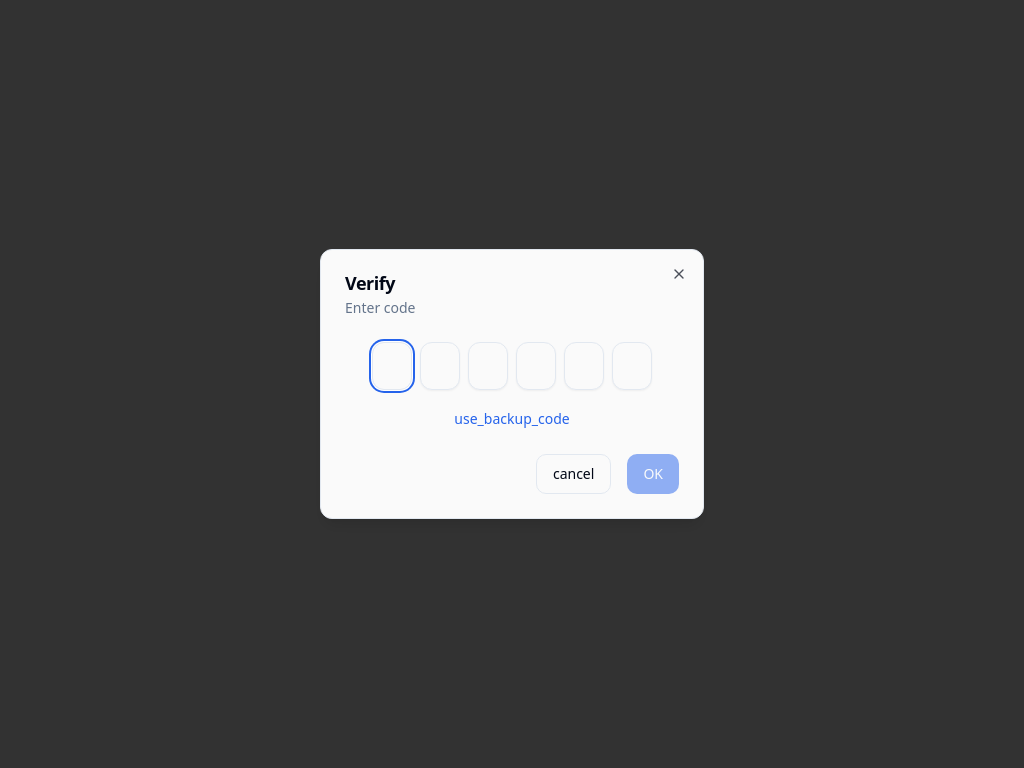
Test: OtpDialog › switches to backup mode when use_backup_code is clicked
Click the button "use_backup_code" at coordinates (512, 419), box [454,409,570,429]
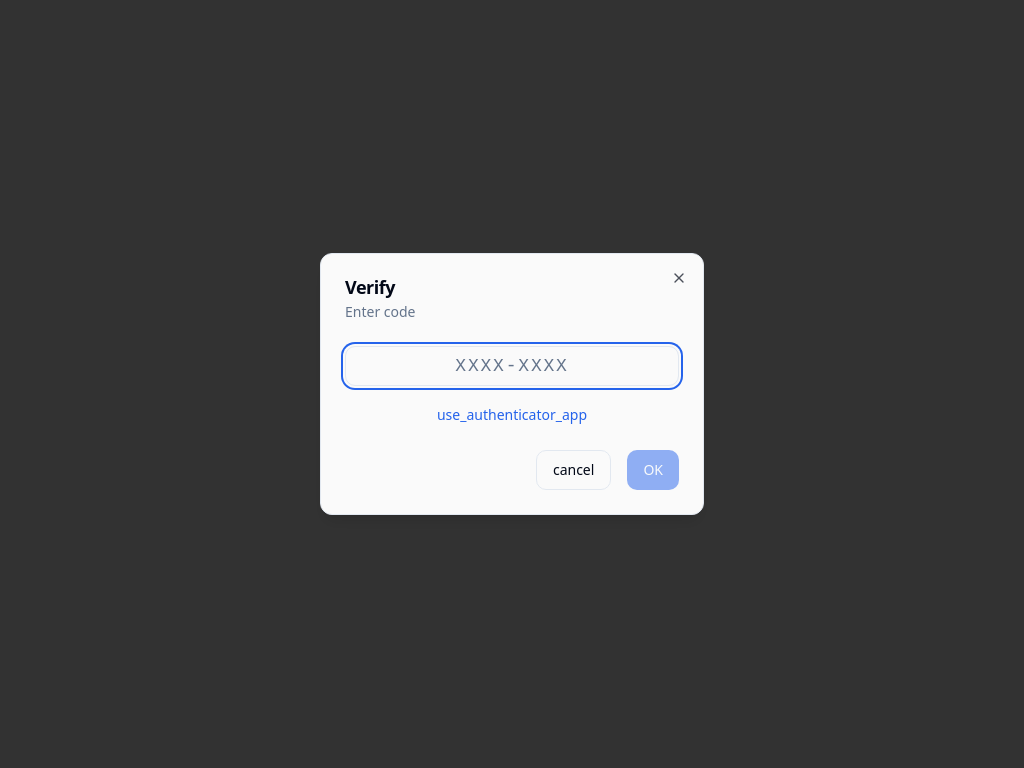
Expected: the button "use_authenticator_app" is shown, [437,405,587,425]
Expected: the field with placeholder "XXXX-XXXX" is shown, [345,346,679,386]
